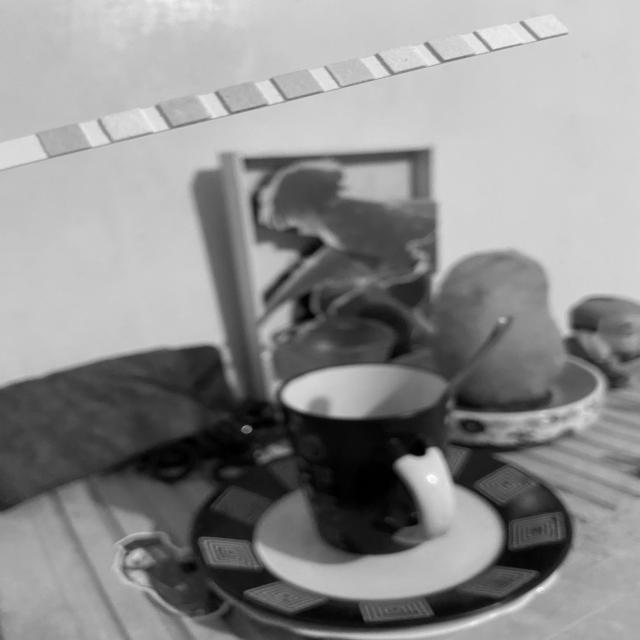Bilirubin: (114, 114, 142, 136)
Blood: (282, 76, 312, 94)
Glucose: (51, 130, 80, 149)
Ketone: (167, 102, 200, 120)
Leukocytes: (535, 18, 557, 34)
Nitrite: (486, 28, 513, 45)
Protein: (388, 50, 418, 69)
SpGravity: (228, 87, 260, 107)
Urobilinogen: (439, 40, 465, 56)
background: (0, 0, 640, 640)
pH: (335, 63, 365, 82)
strip: (0, 14, 568, 172)
